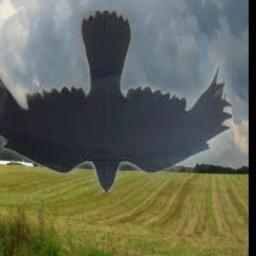Crow: (0, 11, 233, 193)
